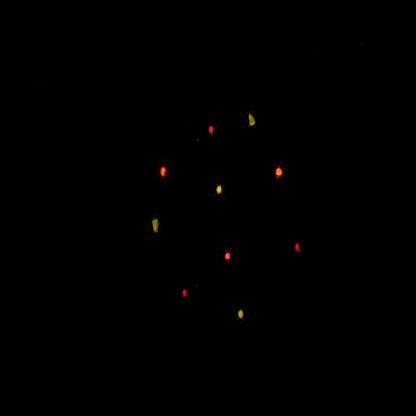PE: (234, 300, 249, 328), (215, 178, 229, 202)
PET: (178, 281, 194, 312), (292, 236, 308, 262), (205, 120, 221, 141)
PP: (246, 106, 260, 139), (150, 210, 162, 242)
PVC: (270, 155, 289, 190), (158, 158, 172, 184), (224, 242, 237, 268)
